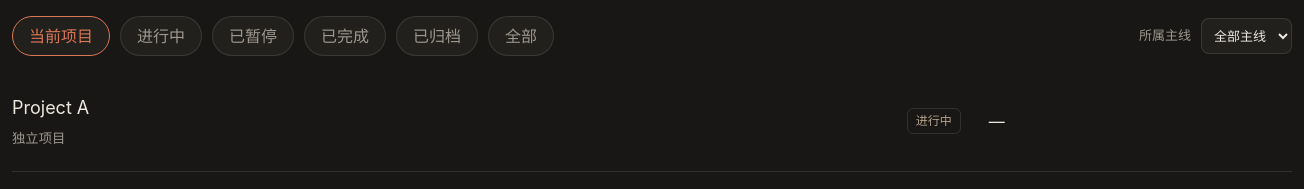
Test case: keeps independent and archived projects accessible, shows unknown stage rate as unknown
Check: the text "独立项目" is shown, box [12,130,65,146]
Check: the text "—" is shown, box [989,110,1005,134]
Click the button "已归档" at (437, 36), box [396,16,478,56]
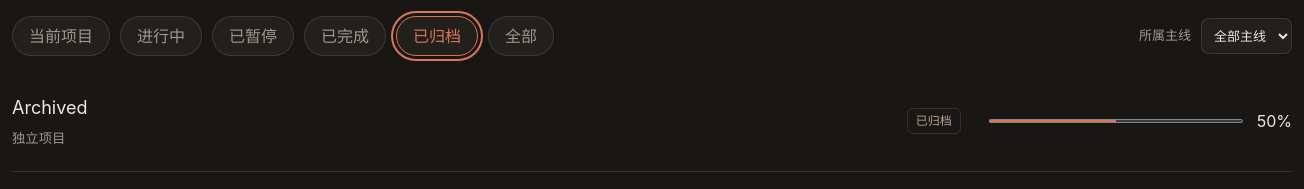
Check: the link "Archived" is shown, box [12,97,88,118]
